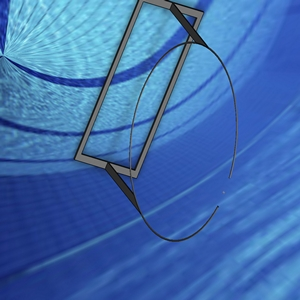circle: (72, 1, 240, 243)
